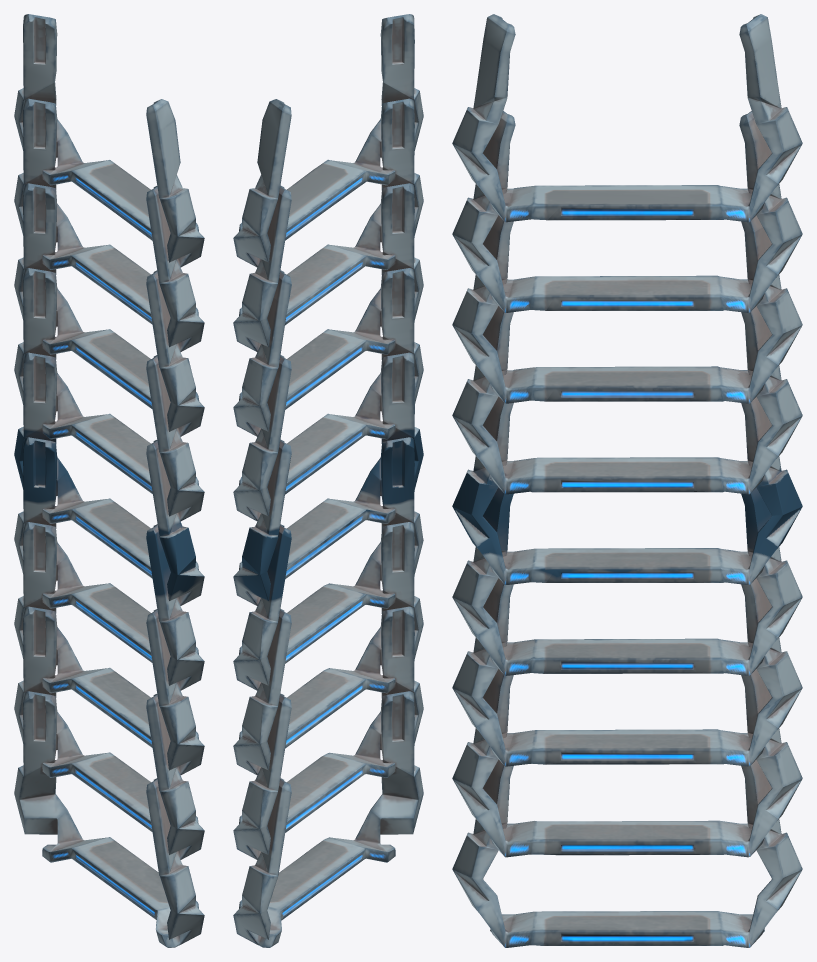
File: Ladder_Tek_C.glb
The picture shows the model from 3 angles, left to right: view 1: azimuth 30°, elevation 25°; view 2: azimuth 150°, elevation 25°; view 3: azimuth 270°, elevation 25°; orthographic projection. The views are drawn at different scales.
Parts seen in each view (by area): view 1: SM_Tek_Ladder; view 2: SM_Tek_Ladder; view 3: SM_Tek_Ladder.
Part boxes in pixels (x1=…): SM_Tek_Ladder: x1=14, y1=14, x2=204, y2=947; SM_Tek_Ladder: x1=233, y1=14, x2=423, y2=947; SM_Tek_Ladder: x1=452, y1=14, x2=802, y2=947.
Bounding box in the file's own units: 0.2837 × 3.21 × 1.12.
Materials: 1 (1 with a texture image).
